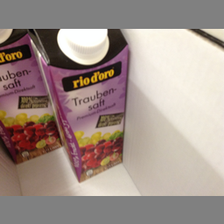juice: (28, 29, 131, 183), (1, 29, 63, 168)
